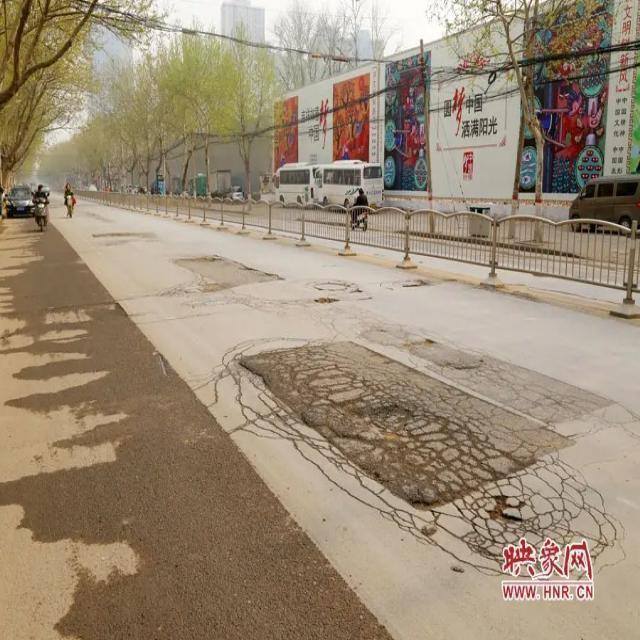pothole: (234, 339, 581, 515), (177, 255, 287, 292), (310, 281, 435, 310)
